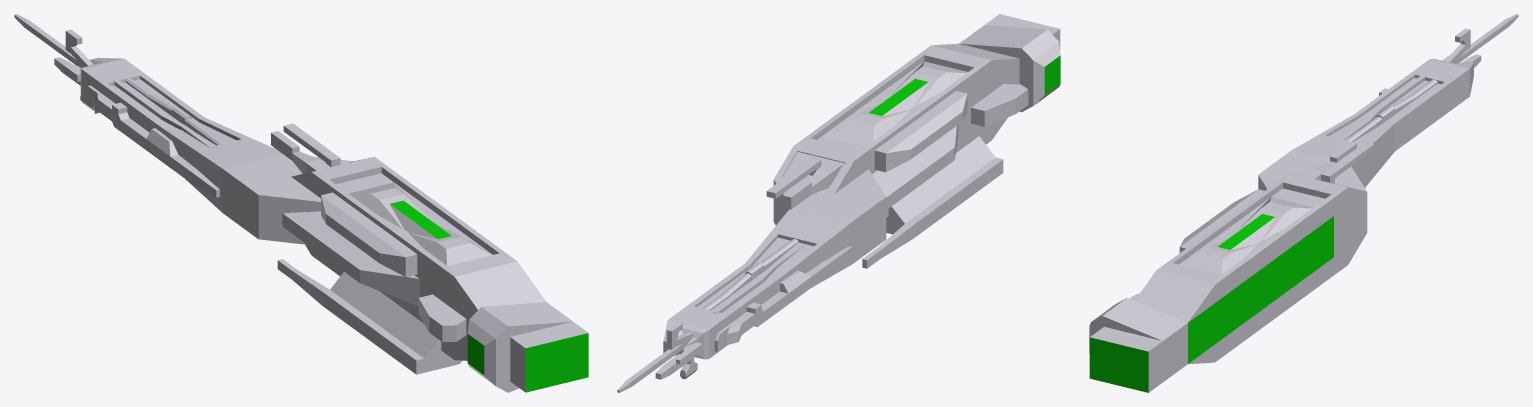
Rendered from Instrument Mast.fbx.
3 renders of one model, left to right at view 1: azimuth 30°, elevation 25°; view 2: azimuth 150°, elevation 25°; view 3: azimuth 330°, elevation 25°, orthographic. The views are drawn at different scales.
Parts seen in each view (by area): view 1: Instrument Mast; view 2: Instrument Mast; view 3: Instrument Mast.
Part boxes in pixels (left/top/right/bottom): Instrument Mast: left=14, top=14, right=588, bottom=392; Instrument Mast: left=617, top=14, right=1060, bottom=392; Instrument Mast: left=1089, top=14, right=1518, bottom=392.
Bounding box in the file's own units: 2.65 × 2.36 × 19.9.
